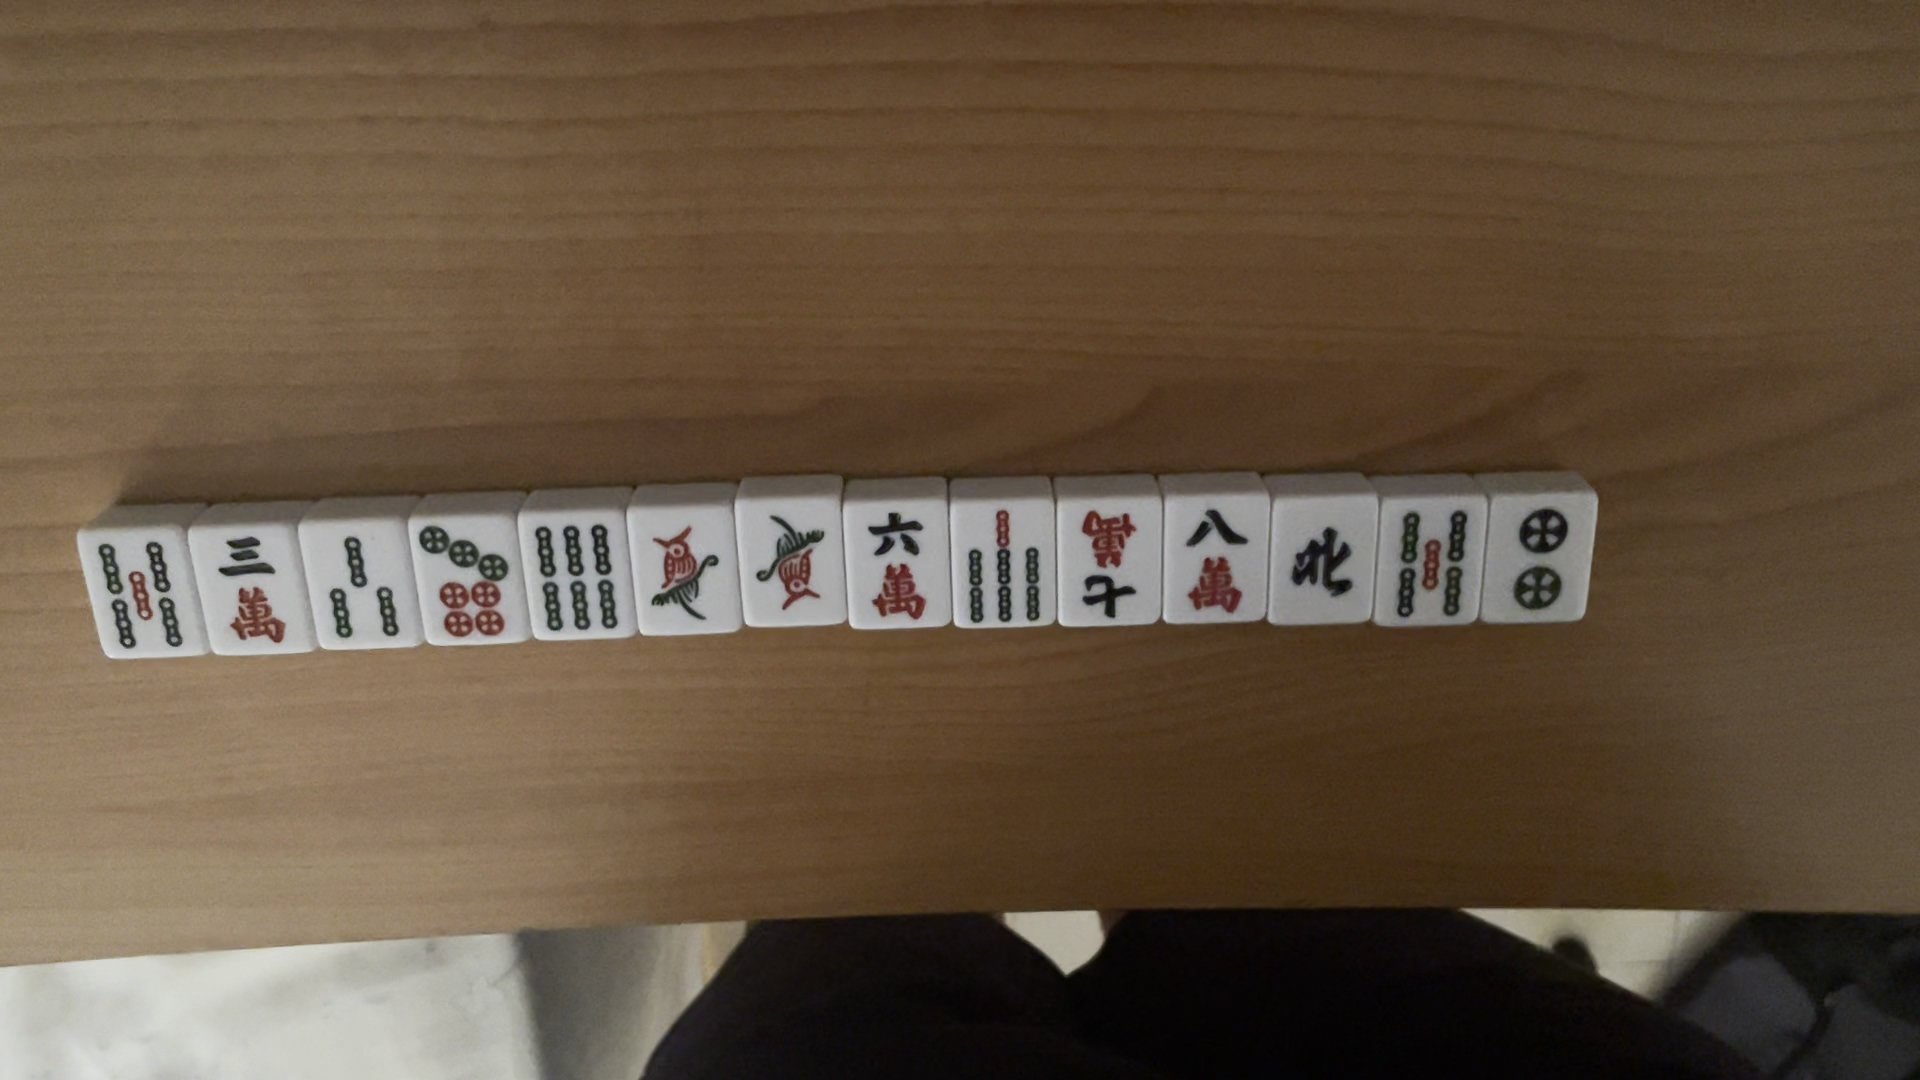b-1: (642, 522, 728, 628), (748, 510, 833, 616)
b-3: (323, 533, 406, 644)
b-5: (88, 537, 191, 654), (1381, 505, 1484, 622)
b-6: (531, 522, 626, 638)
c-3: (218, 538, 290, 646)
c-6: (855, 508, 939, 624), (967, 506, 1044, 624)
c-7: (1067, 498, 1145, 621)
c-8: (1168, 498, 1257, 618)
d-2: (1502, 506, 1571, 615)
d-7: (419, 527, 512, 641)
honors-north: (1287, 524, 1364, 605)
